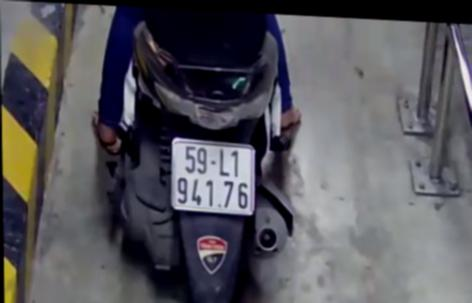License_Plate: (161, 133, 257, 222)
